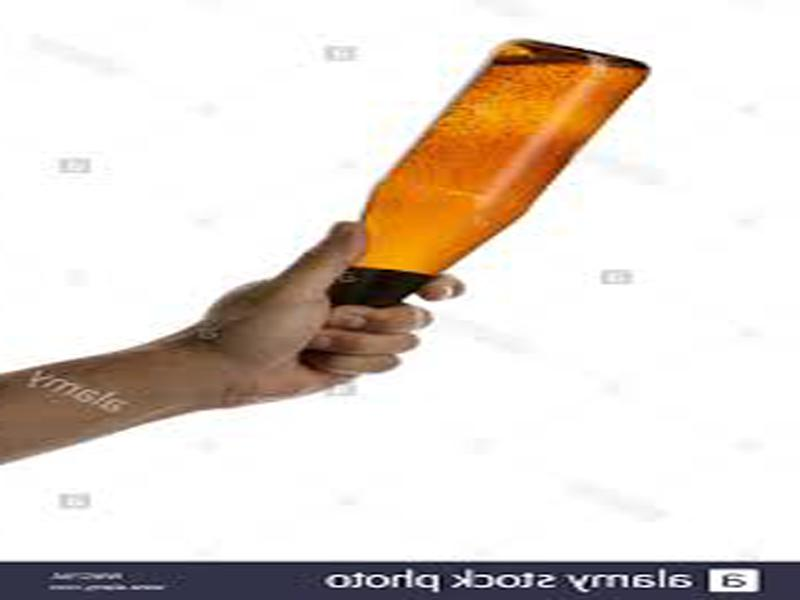Beer: (306, 36, 650, 364)
